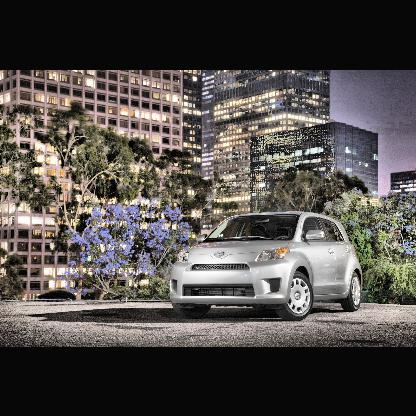Scion xD Hatchback 2012: (170, 212, 364, 320)
